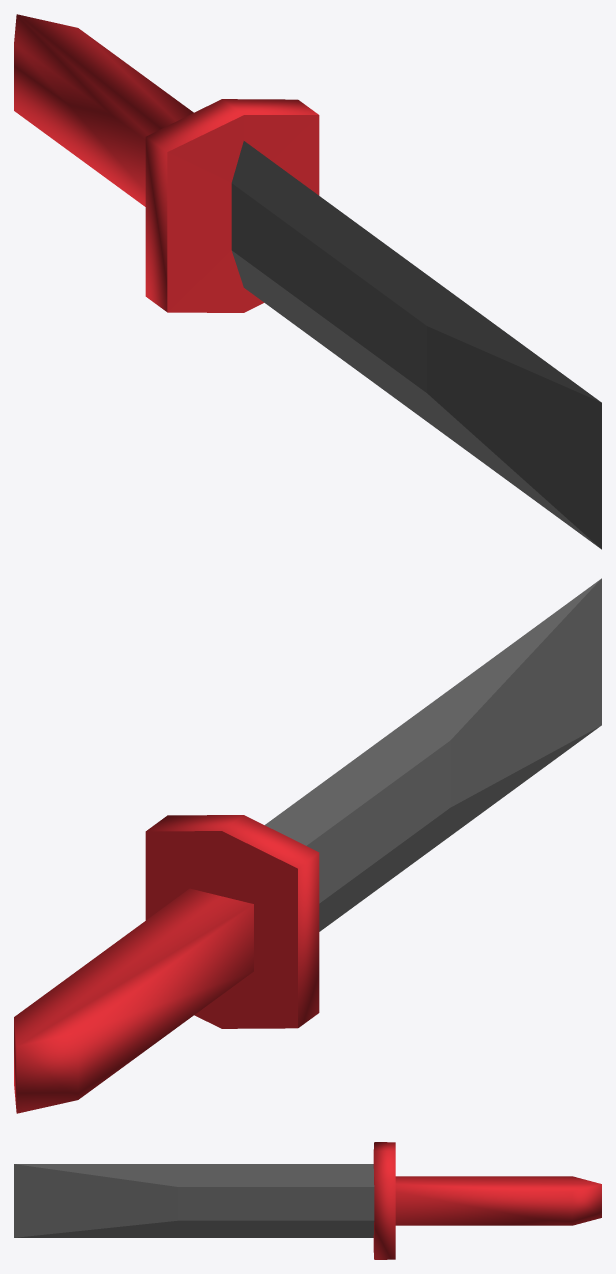
The model's file is puppet_Sword.fbx.
3 renders of one model, top to bottom at view 1: azimuth 30°, elevation 25°; view 2: azimuth 150°, elevation 25°; view 3: azimuth 270°, elevation 25°, orthographic. The views are drawn at different scales.
Visible parts, largest first — view 1: Sword; view 2: Sword; view 3: Sword.
Boxes of the visible parts, bbox=[...] form: Sword: bbox=[14, 14, 601, 549]; Sword: bbox=[14, 578, 601, 1113]; Sword: bbox=[14, 1142, 601, 1259].
Size of the model in its own units: 67.94 by 84.23 by 451.
